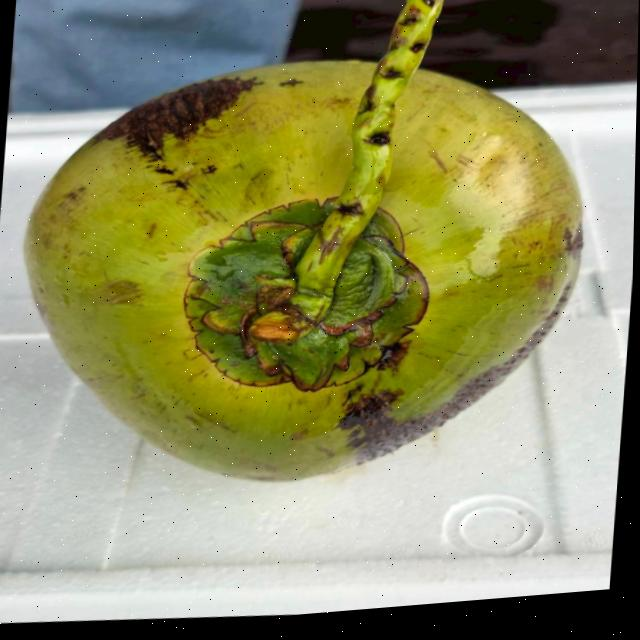coco_2.0: (154, 162, 471, 443)
